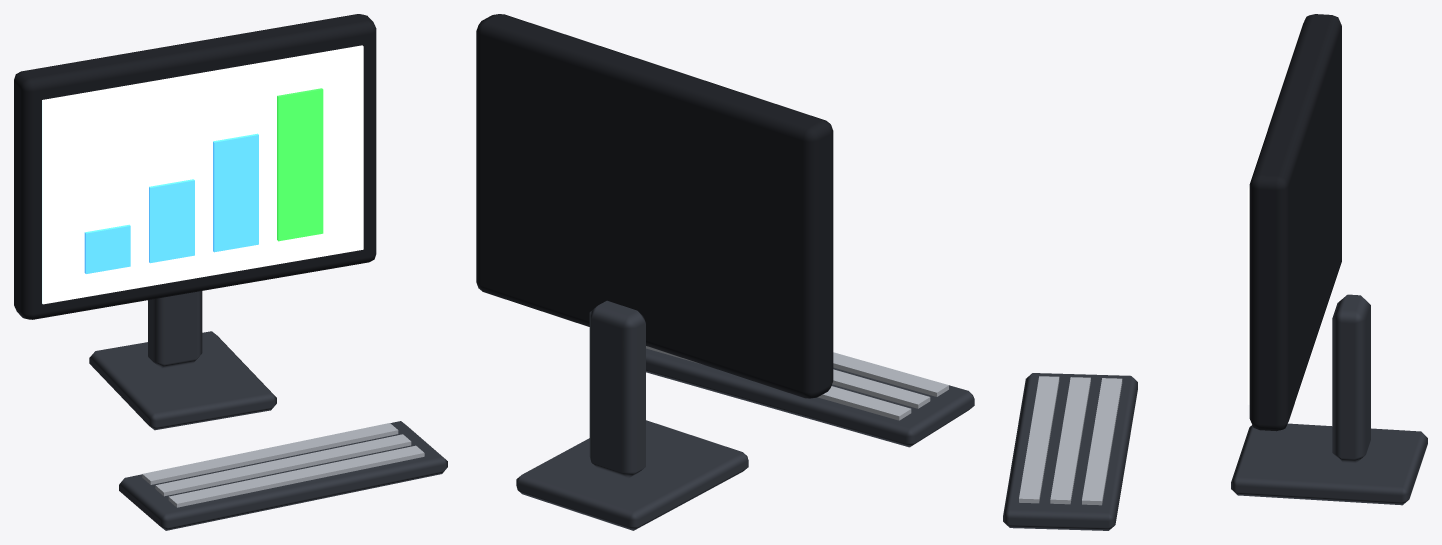
Rendered from station_intake_ausstattung_2_3.glb.
The picture shows the model from 3 angles, left to right: view 1: azimuth 30°, elevation 25°; view 2: azimuth 150°, elevation 25°; view 3: azimuth 270°, elevation 25°; orthographic projection. The views are drawn at different scales.
Parts seen in each view (by area): view 1: station_intake_ausstattung_2_3; view 2: station_intake_ausstattung_2_3; view 3: station_intake_ausstattung_2_3.
Boxes of the visible parts, x1,y1,x2,y2 form: station_intake_ausstattung_2_3: [14, 14, 447, 530]; station_intake_ausstattung_2_3: [476, 14, 974, 530]; station_intake_ausstattung_2_3: [1003, 14, 1427, 530].
Size of the model in its own units: 0.3586 by 0.368 by 0.377.
